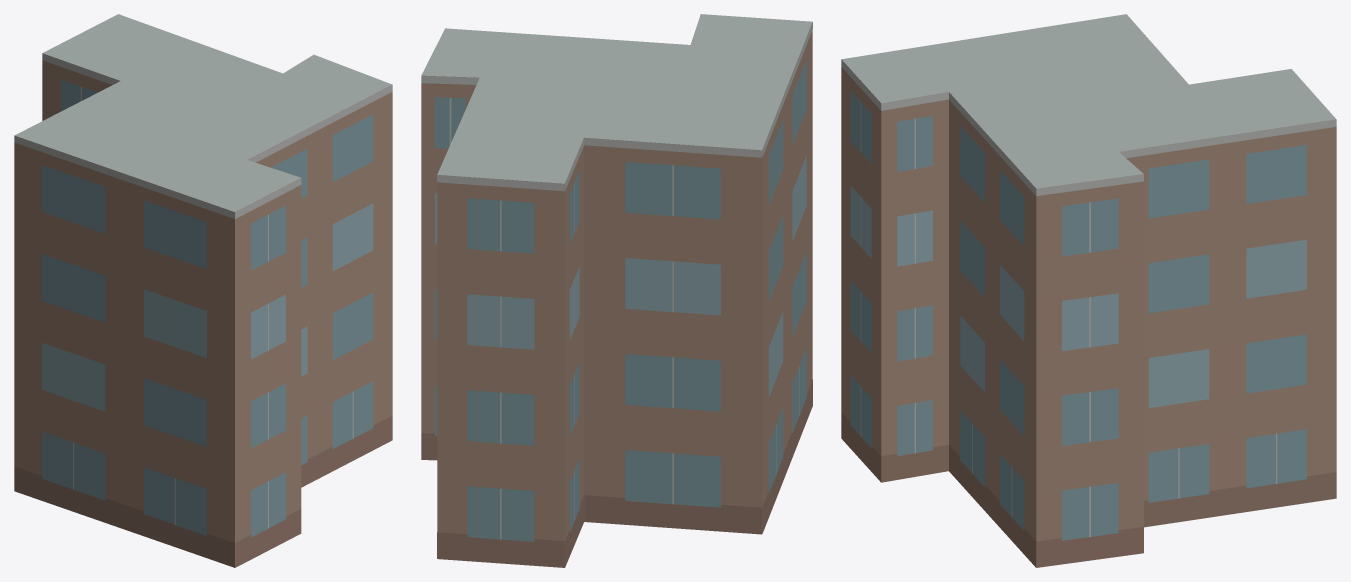
The model's file is survey-upis-32866410.glb.
3 renders of one model, left to right at view 1: azimuth 30°, elevation 25°; view 2: azimuth 150°, elevation 25°; view 3: azimuth 270°, elevation 25°, orthographic. The views are drawn at different scales.
Parts seen in each view (by area): view 1: survey-upis-32866410.tmp; view 2: survey-upis-32866410.tmp; view 3: survey-upis-32866410.tmp.
Part boxes in pixels (box(x1,y1,x2,y2)): survey-upis-32866410.tmp: box(14, 14, 392, 567); survey-upis-32866410.tmp: box(421, 14, 812, 567); survey-upis-32866410.tmp: box(841, 14, 1336, 567).
Size of the model in its own units: 12.26 by 12.4 by 14.69.
